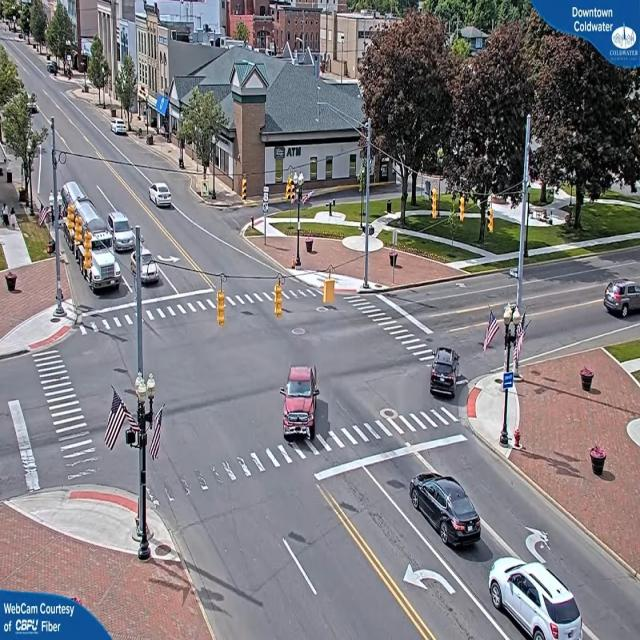car: (490, 561, 588, 640), (409, 476, 482, 551), (281, 364, 321, 440), (430, 345, 464, 398), (604, 280, 638, 318), (109, 213, 137, 252), (150, 182, 174, 210), (142, 254, 160, 286), (112, 121, 129, 136)
truck: (83, 243, 121, 293)
